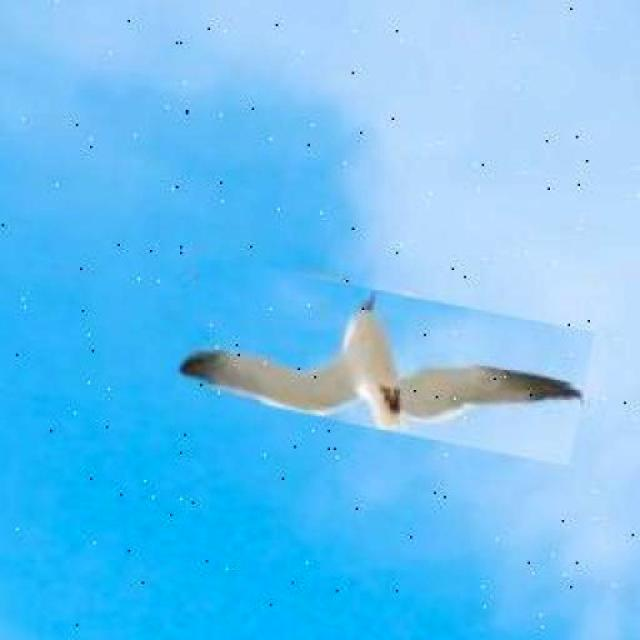airplane: (174, 256, 594, 466)
